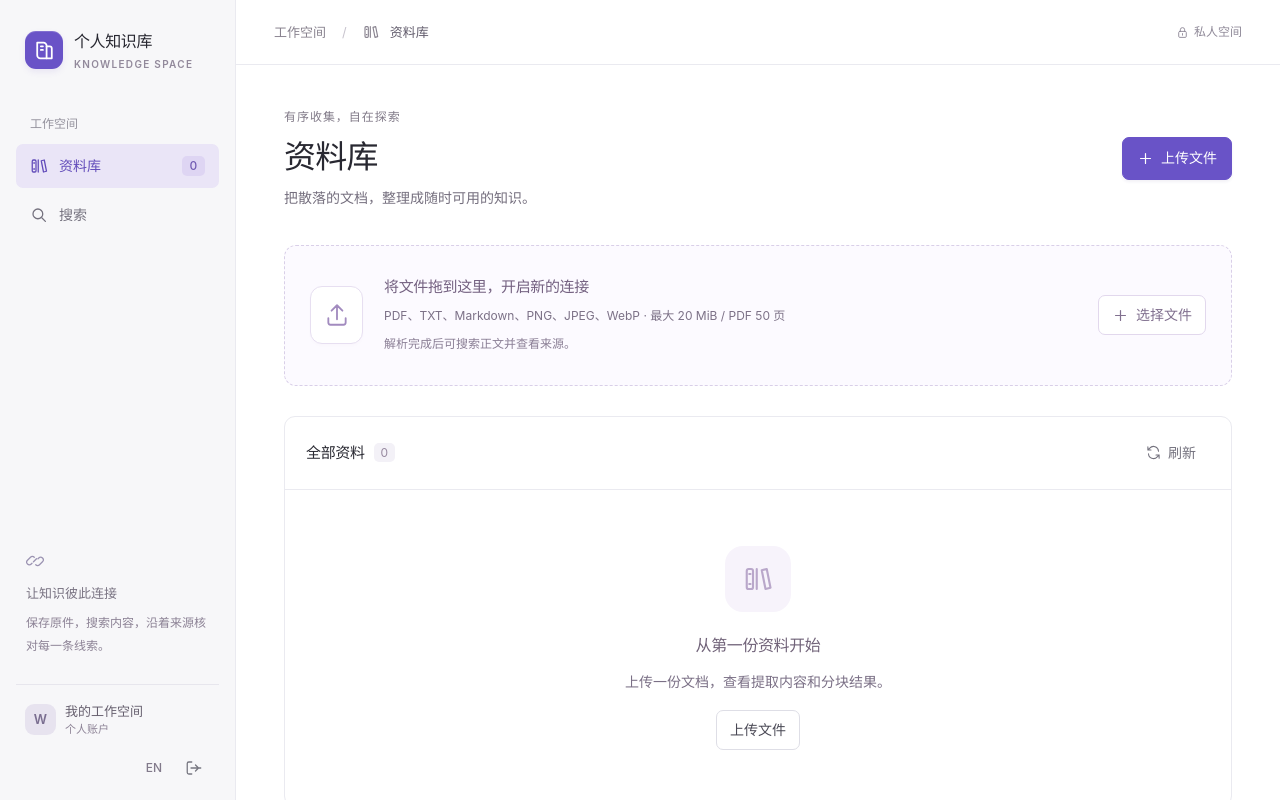
Test: Document workspace › starts in the library and searches without a built-in chat or query model
Check: the heading "从第一份资料开始" is shown, box [696,633,820,658]
Click the button "搜索" at (118, 215), box [16,193,219,238]
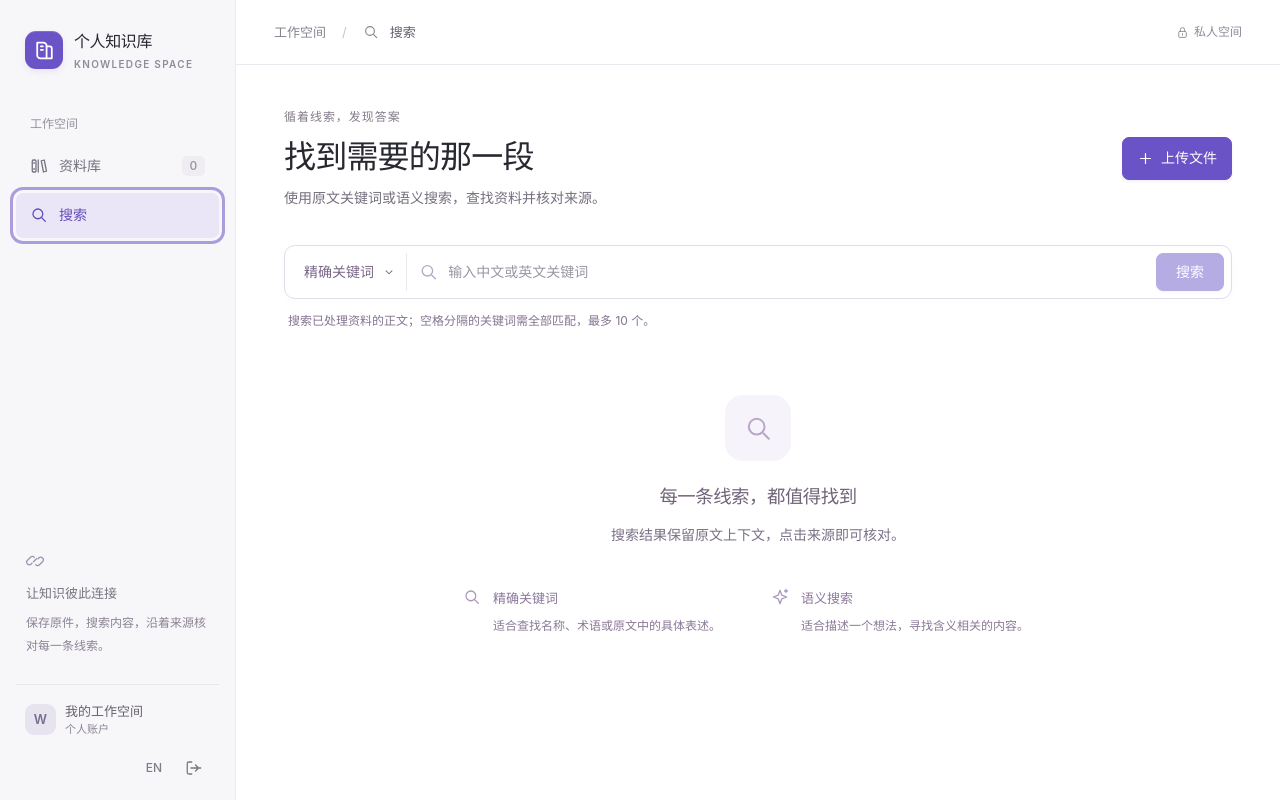
Check: the dropdown named "搜索模式" shows "精确关键词", box [292,253,407,291]
Type "滤网" into the search field at (798, 272), box [448,254,1147,290]
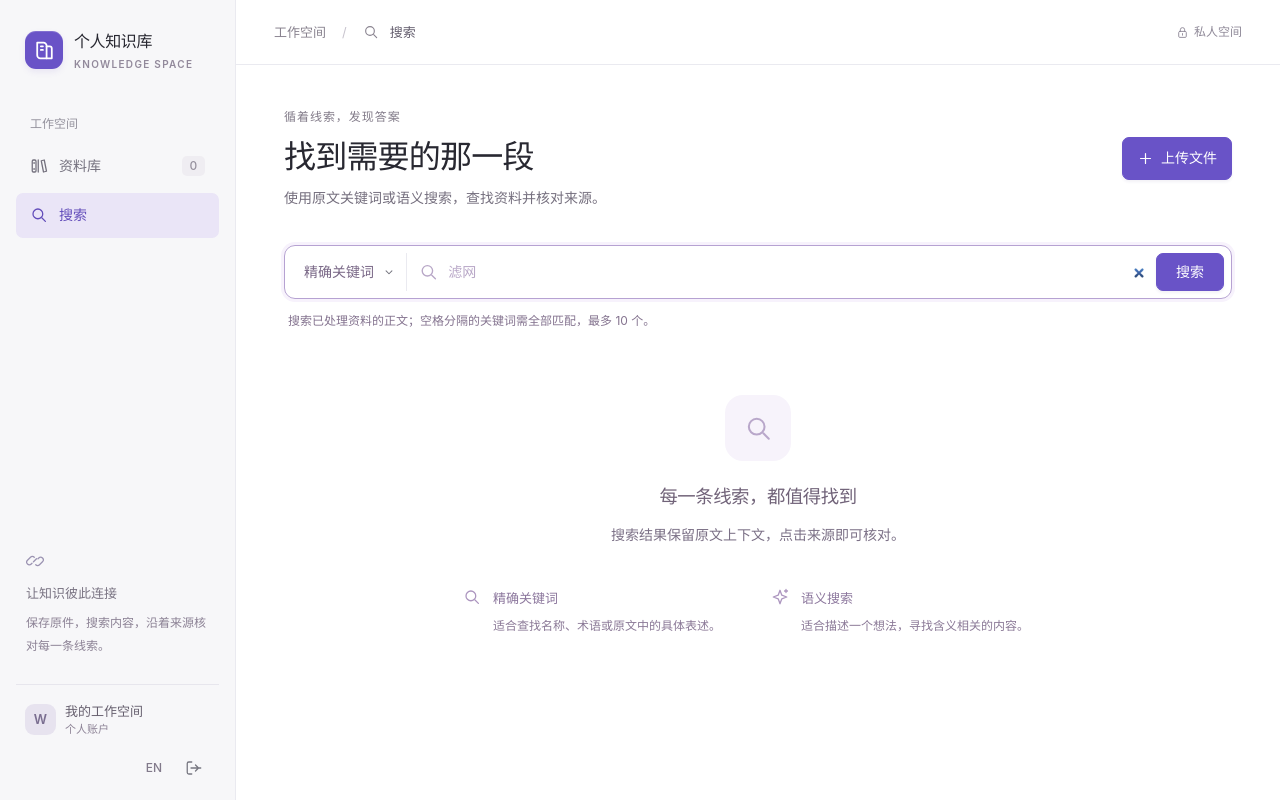
Click the button "搜索" below "私人空间" at (1190, 272), box [1156,253,1224,291]
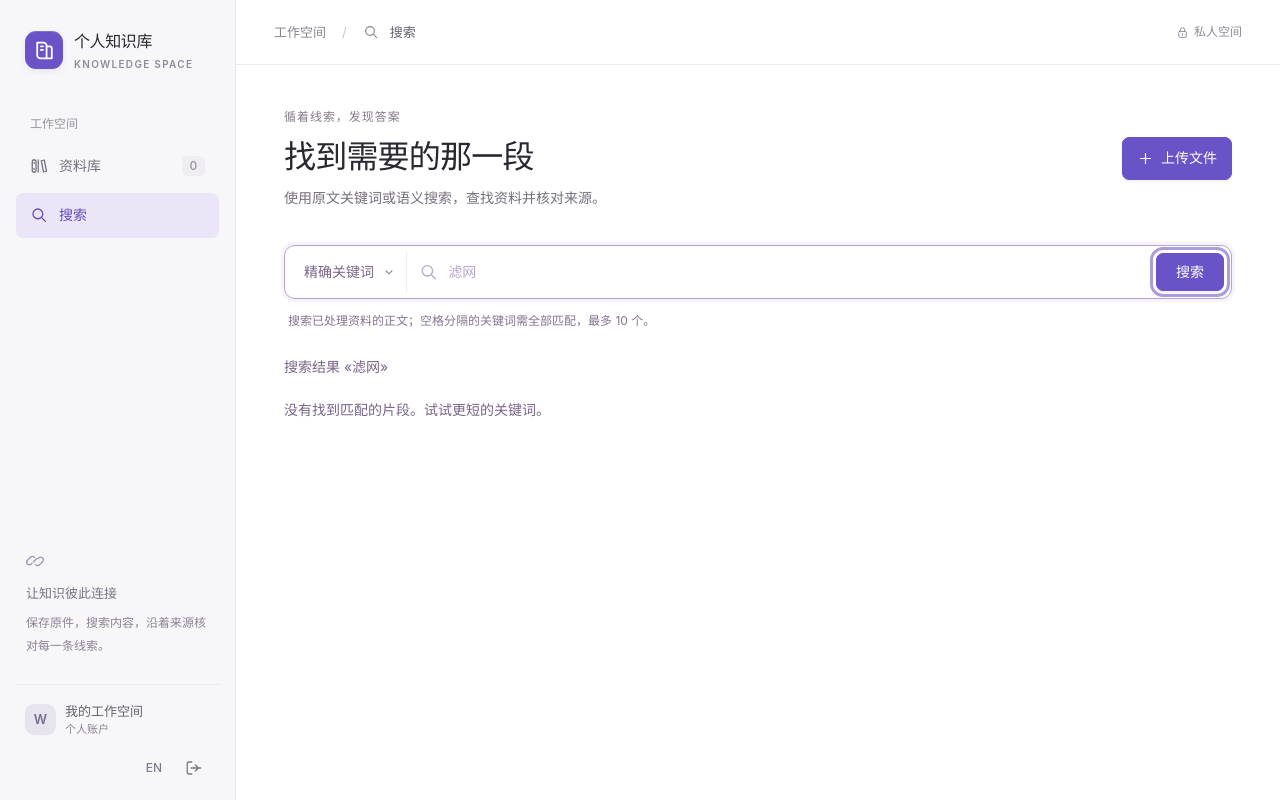
Check: the text "搜索结果 «滤网»" is shown, box [284,358,388,375]
Click the button "资料库 0" at (118, 166), box [16,144,219,188]
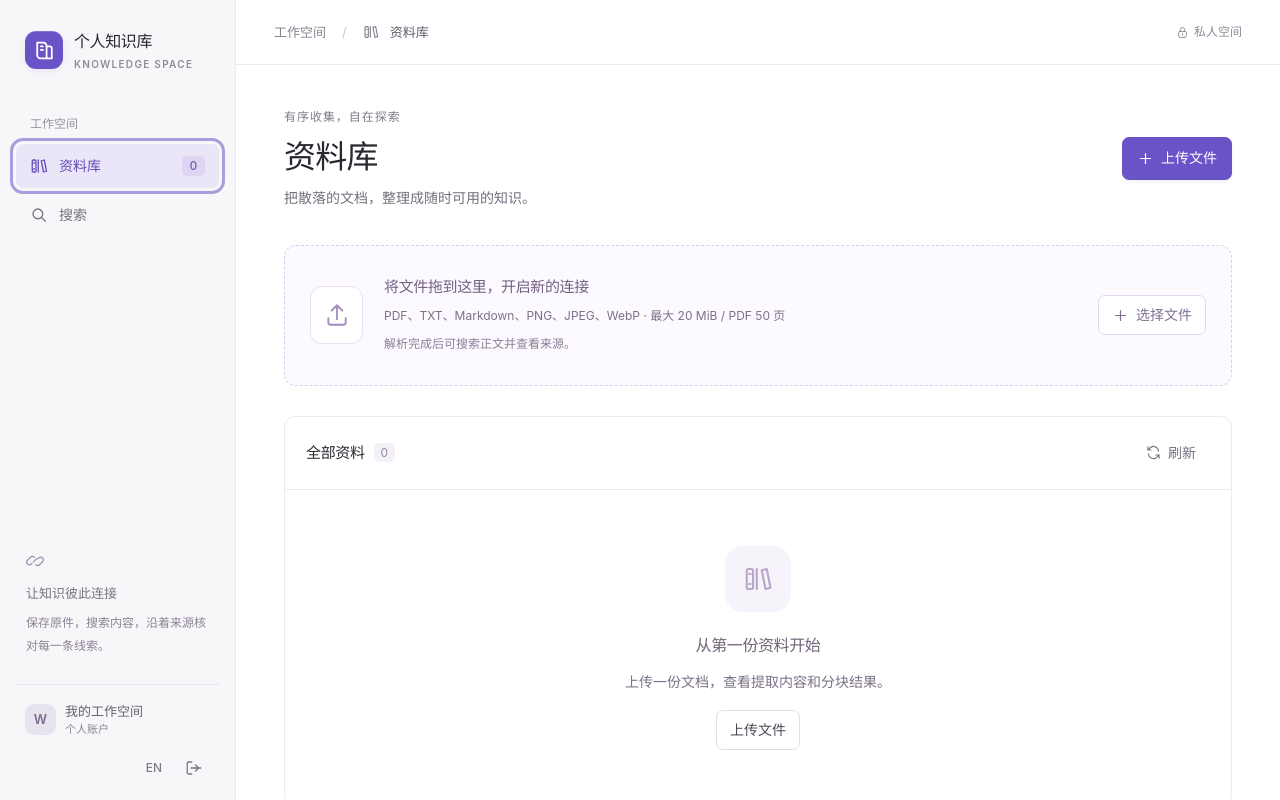
Click the button "搜索" at (118, 215), box [16,193,219,238]
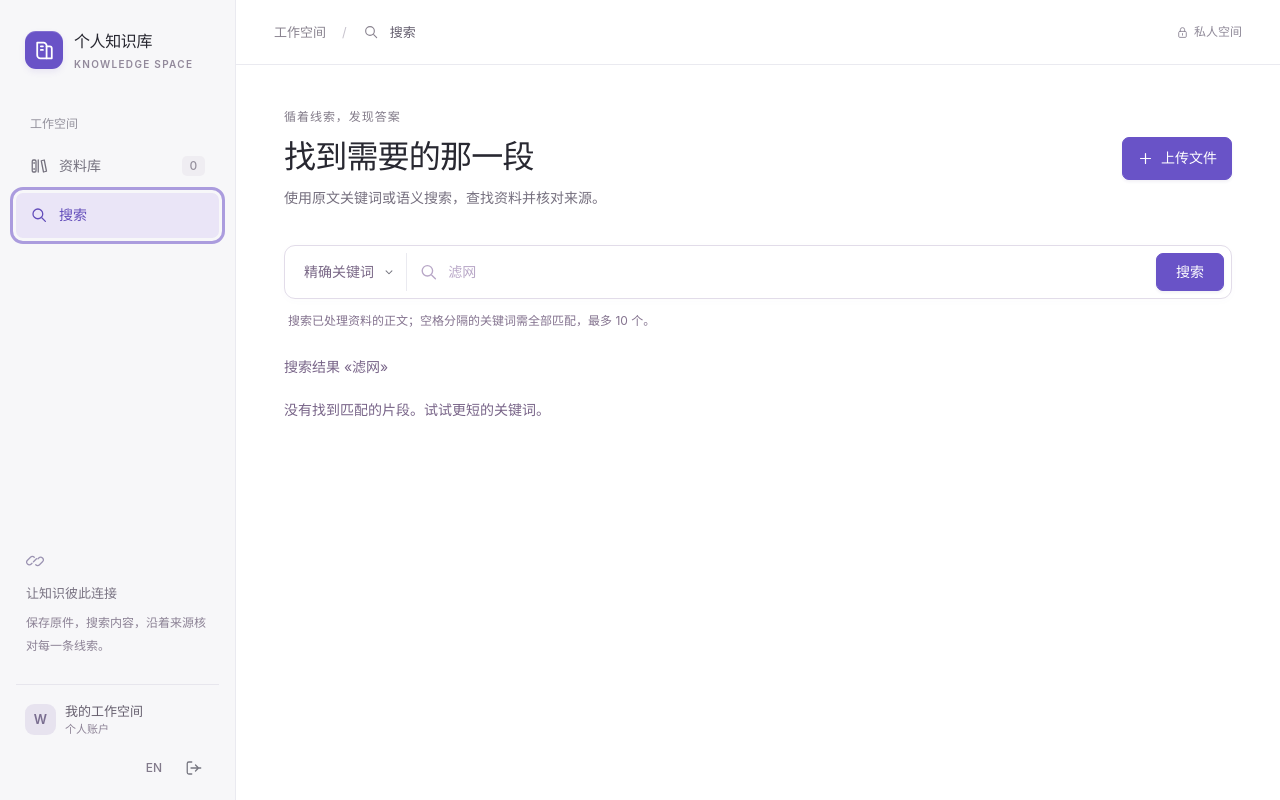
Check: the text "搜索结果 «滤网»" is shown, box [284,358,388,375]
